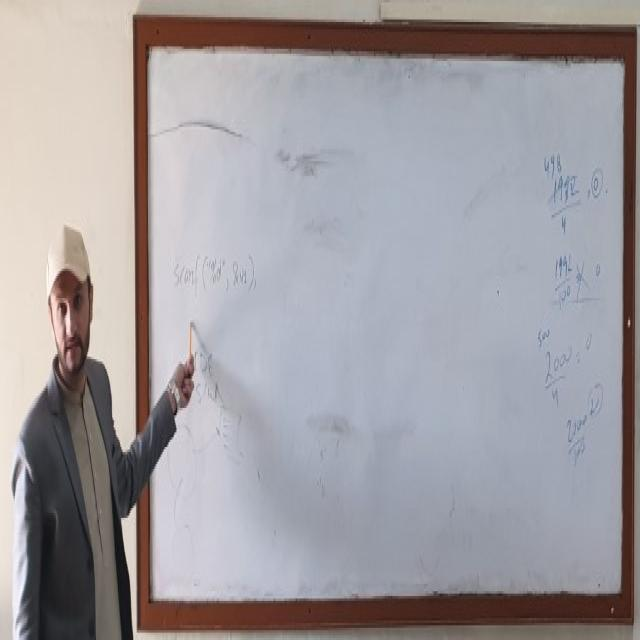Instructor: (18, 202, 131, 640)
White-board: (141, 28, 632, 614)
